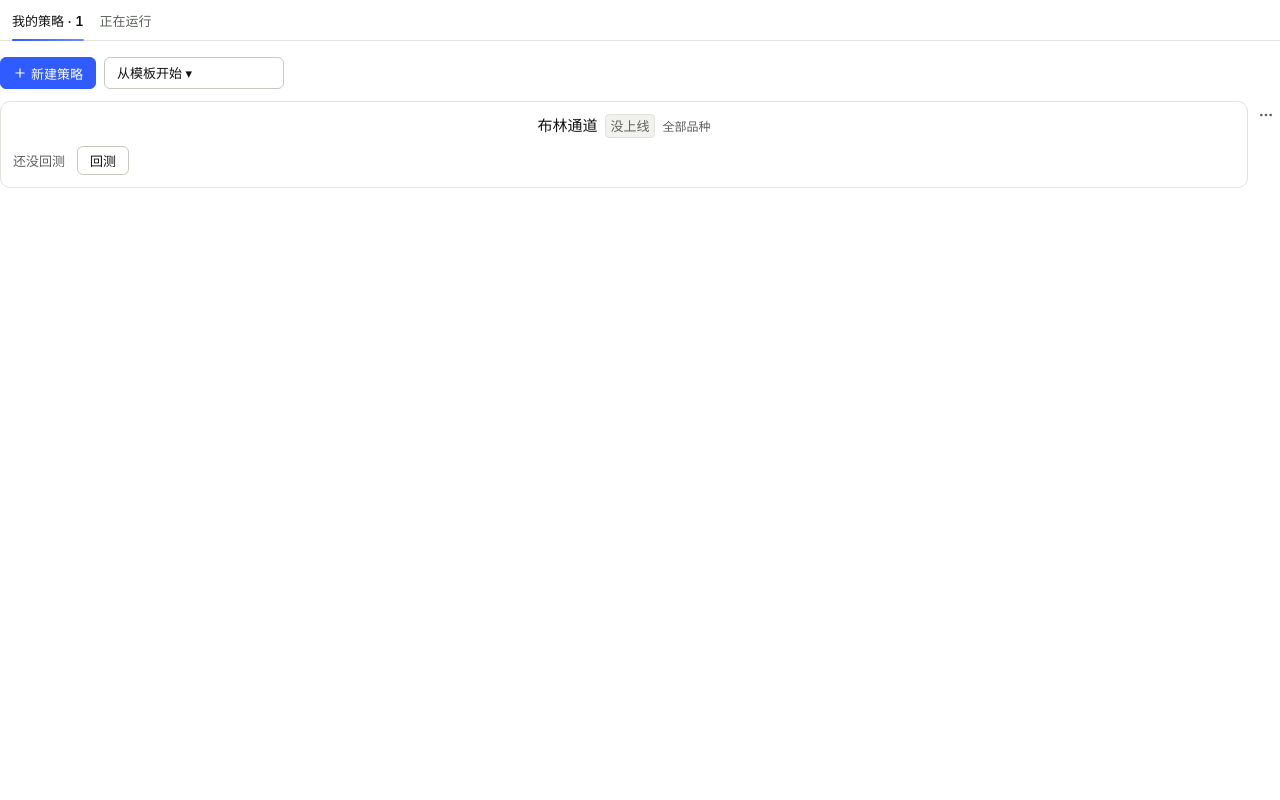
详情：大周期条件与波动 / 跳空门槛是过滤（虚线），时段与夜盘在开仓限制里
Click the button with aria-label "布林通道 · " at (624, 126), box [13,114,1235,138]
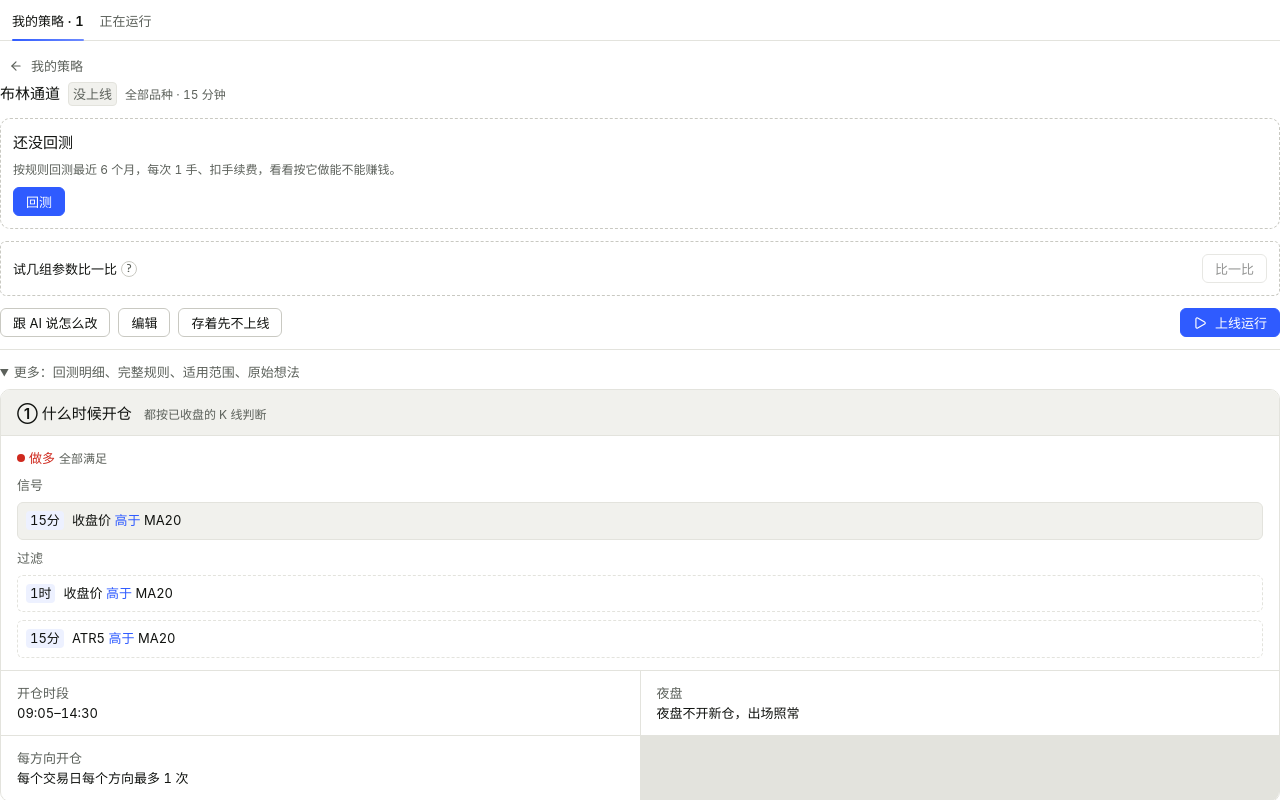
expect the element titled "收盘突破布林上轨" reads "15分 收盘价 高于 MA20": met, box [17,502,1263,540]
expect the element titled "1 小时收盘在 MA20 上方" reads "1时 收盘价 高于 MA20": met, box [17,575,1263,612]
expect the text "09:05–14:30" is shown: met, box [17,705,98,721]
